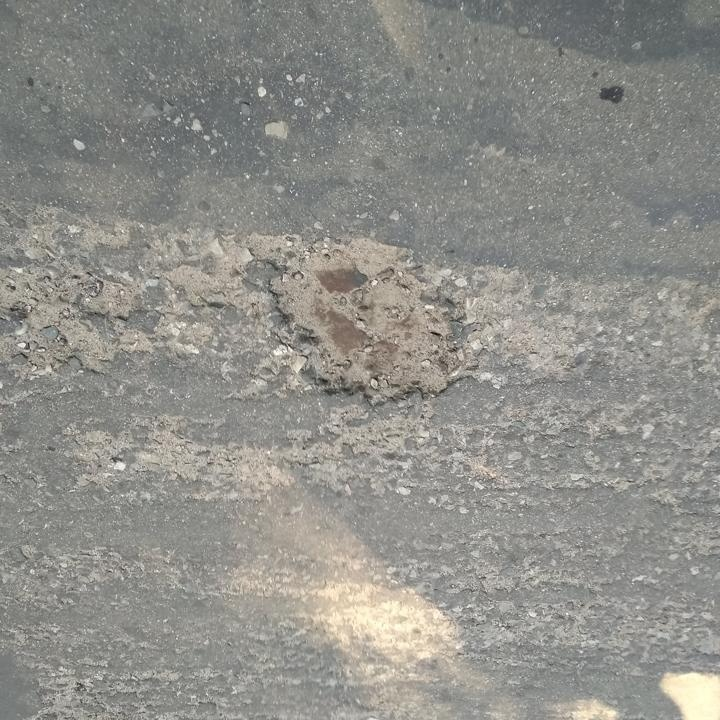pothole: (255, 228, 481, 413), (0, 265, 142, 379)
